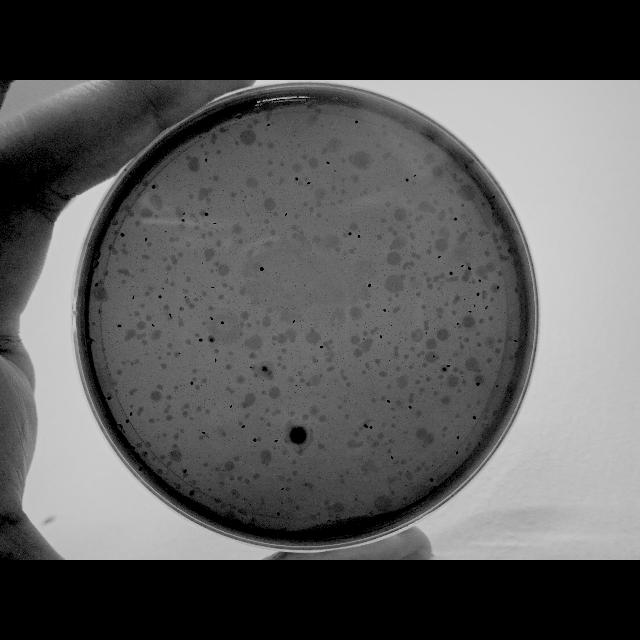colony: (272, 437, 280, 445), (276, 509, 282, 517), (354, 118, 360, 125), (282, 526, 288, 532), (182, 468, 188, 474), (452, 216, 458, 222), (151, 184, 157, 190), (259, 266, 265, 272), (252, 436, 256, 444), (430, 476, 434, 484), (280, 486, 284, 492), (228, 404, 234, 408), (241, 423, 245, 429), (125, 418, 129, 424), (138, 466, 142, 472), (455, 450, 459, 456), (446, 364, 452, 368), (442, 366, 446, 372), (266, 122, 272, 126), (326, 160, 330, 166), (295, 176, 299, 182), (306, 181, 312, 185), (405, 177, 409, 183), (205, 211, 209, 217), (120, 232, 124, 238), (168, 312, 172, 318), (181, 218, 185, 224), (319, 344, 323, 350), (219, 514, 223, 520), (262, 366, 266, 372), (190, 380, 193, 386), (190, 490, 193, 496), (220, 320, 223, 326), (214, 358, 218, 362), (199, 338, 203, 342), (107, 396, 111, 400), (129, 412, 133, 416), (137, 458, 141, 462), (390, 456, 394, 460), (472, 416, 476, 420), (476, 382, 480, 386), (432, 354, 436, 358), (468, 310, 472, 314), (472, 303, 476, 307), (484, 306, 488, 310), (348, 232, 352, 236), (204, 158, 208, 162), (413, 174, 417, 178), (492, 195, 496, 199), (144, 238, 148, 242), (118, 324, 122, 328), (91, 338, 95, 342), (151, 323, 155, 327), (158, 295, 162, 299), (131, 296, 135, 300), (210, 316, 214, 320), (379, 334, 383, 338), (386, 399, 390, 403), (408, 405, 412, 409), (478, 441, 482, 445), (258, 528, 262, 532), (292, 319, 296, 323), (124, 168, 128, 172), (202, 430, 204, 436), (456, 435, 459, 439), (456, 322, 459, 326), (476, 292, 479, 296), (284, 212, 288, 215), (496, 285, 499, 289), (368, 282, 370, 288), (496, 384, 498, 388), (425, 331, 427, 335), (450, 271, 452, 275), (468, 266, 470, 270), (437, 256, 441, 258), (492, 206, 494, 210), (162, 286, 164, 290), (212, 285, 214, 289), (384, 308, 386, 312), (370, 425, 372, 429), (129, 172, 131, 176), (157, 146, 159, 150), (461, 265, 464, 267), (358, 235, 360, 238), (364, 424, 366, 426), (366, 426, 368, 428), (146, 154, 148, 156)
